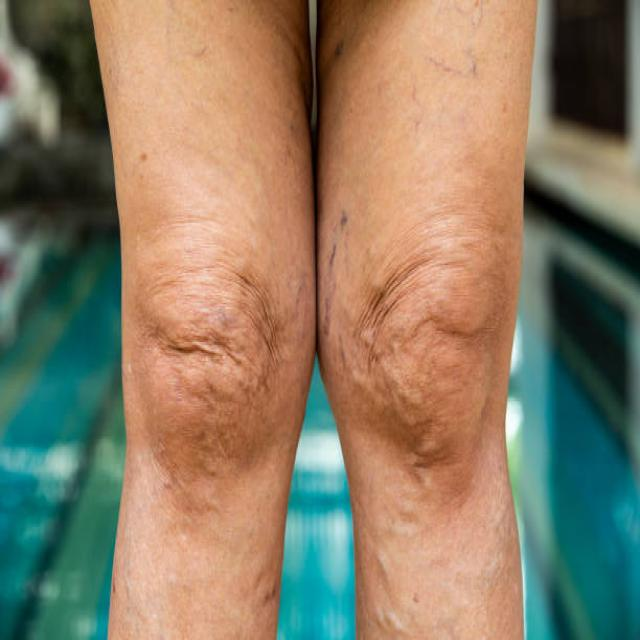Dry-Skin: (110, 207, 288, 522), (361, 235, 507, 513)
